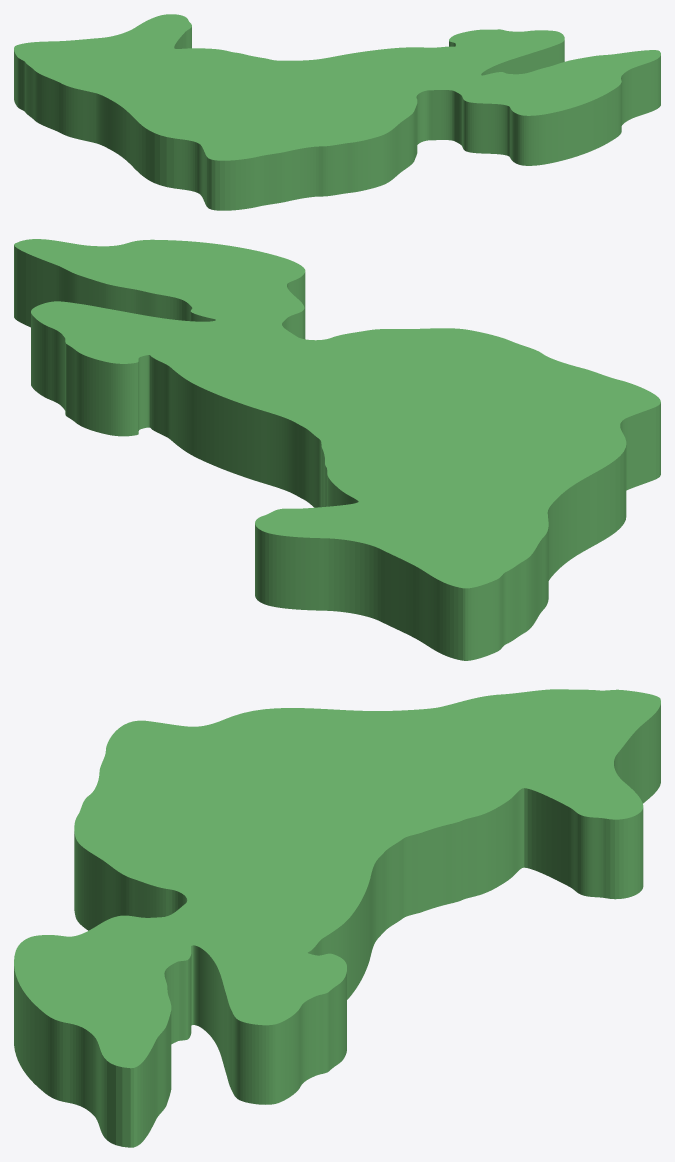
File: pulau-papua.fbx
3 renders of one model, top to bottom at view 1: azimuth 30°, elevation 25°; view 2: azimuth 150°, elevation 25°; view 3: azimuth 270°, elevation 25°, orthographic. The views are drawn at different scales.
Visible parts, largest first — view 1: papua; view 2: papua; view 3: papua.
Boxes of the visible parts, x1=… form: papua: x1=14, y1=14, x2=660, y2=210; papua: x1=14, y1=239, x2=660, y2=660; papua: x1=14, y1=689, x2=660, y2=1147.
Bounding box in the file's own units: 48.61 × 4.76 × 35.07.
